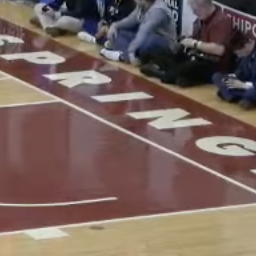block: (25, 226, 70, 240)
